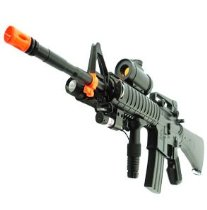rifle: (6, 25, 200, 192)
